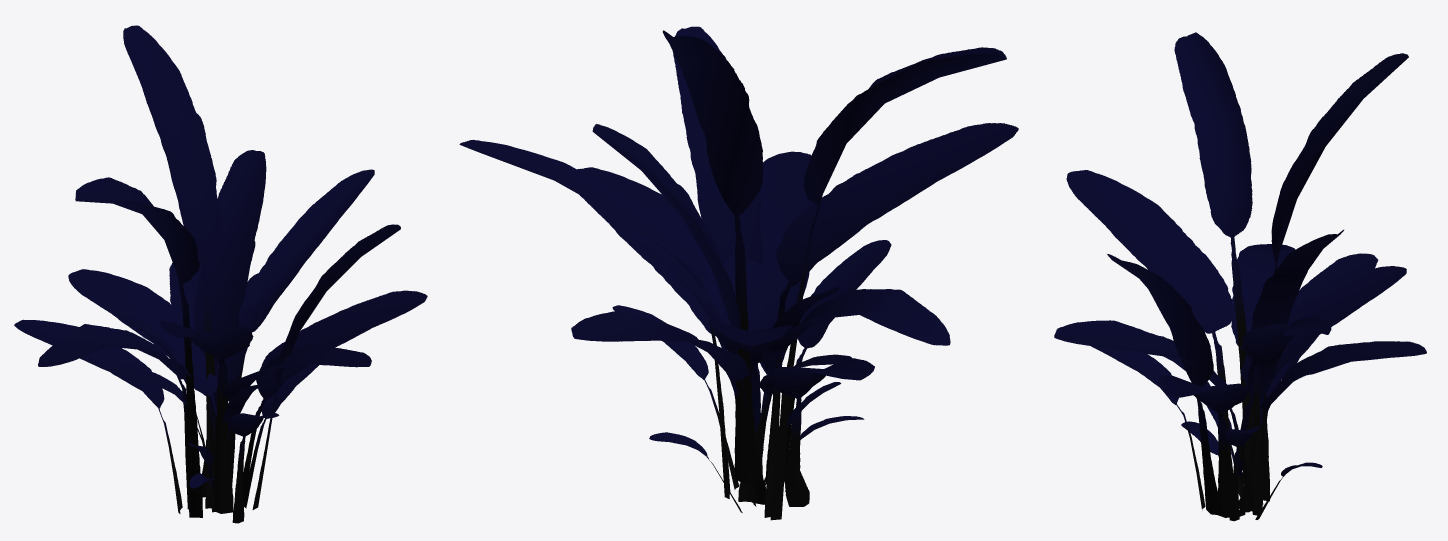
Rendered from SM_Foliage_PalmPlantA_06.fbx.
3 renders of one model, left to right at view 1: azimuth 30°, elevation 25°; view 2: azimuth 150°, elevation 25°; view 3: azimuth 270°, elevation 25°, orthographic. The views are drawn at different scales.
Parts seen in each view (by area): view 1: SM_Foliage_PalmPlantA_06; view 2: SM_Foliage_PalmPlantA_06; view 3: SM_Foliage_PalmPlantA_06.
Boxes of the visible parts, left/top/right/bottom form: SM_Foliage_PalmPlantA_06: left=14, top=25, right=427, bottom=523; SM_Foliage_PalmPlantA_06: left=459, top=26, right=1018, bottom=520; SM_Foliage_PalmPlantA_06: left=1054, top=32, right=1426, bottom=521.
Bounding box in the file's own units: 424 × 371 × 492.
